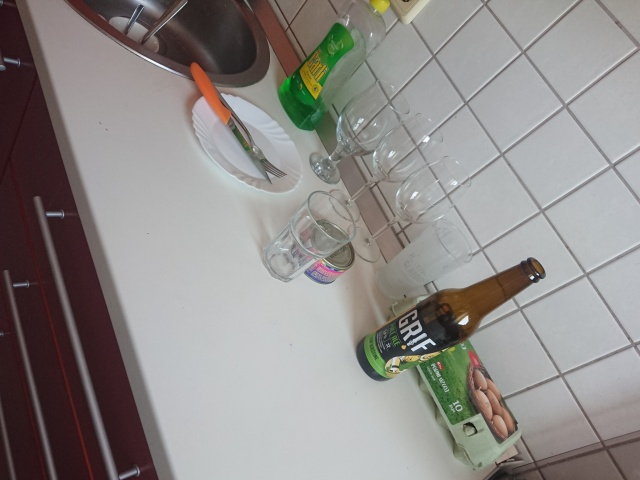Giana Tuna Salad Mexico 185g: (288, 217, 357, 286)
